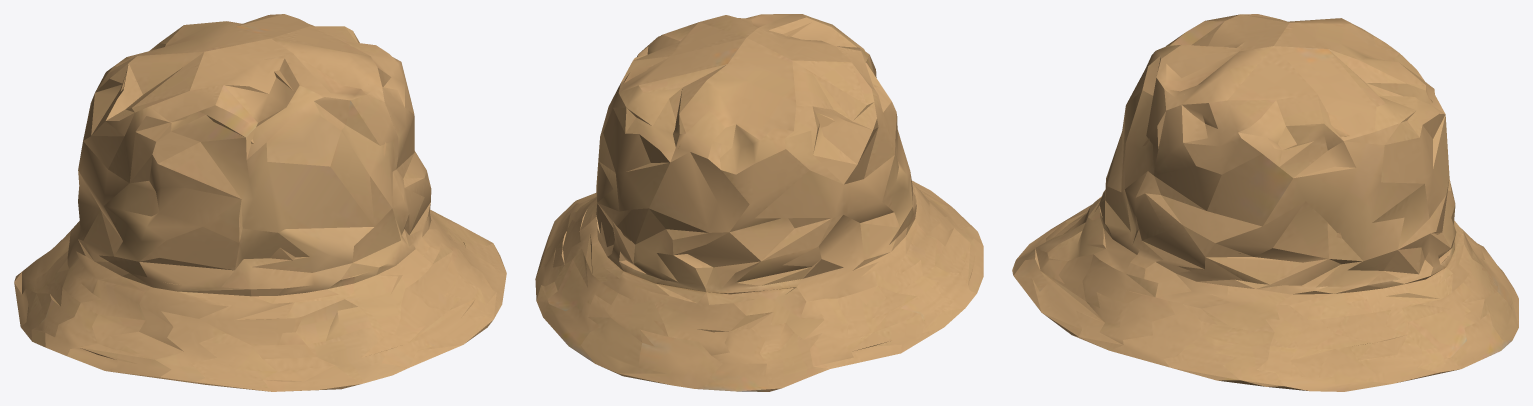
The model's file is bucket_hat.glb.
3 renders of one model, left to right at view 1: azimuth 30°, elevation 25°; view 2: azimuth 150°, elevation 25°; view 3: azimuth 270°, elevation 25°, orthographic. The views are drawn at different scales.
Size of the model in its own units: 1.85 by 1.14 by 1.9.
Materials: 1 (1 with a texture image).
